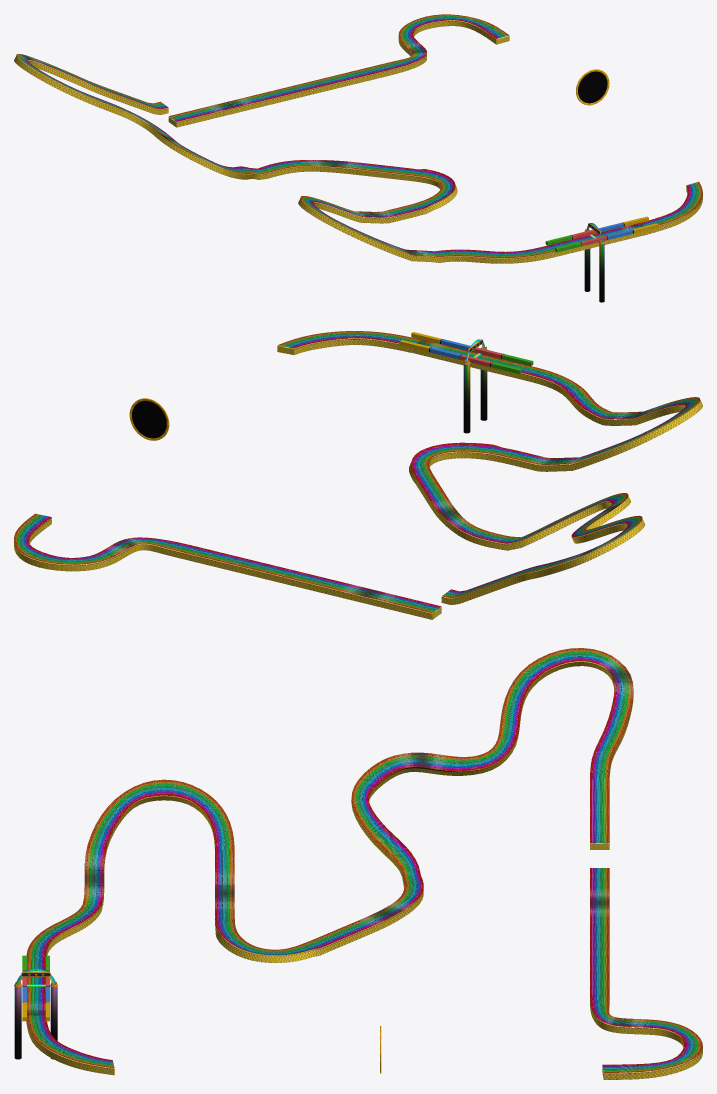
File: Project Name.obj
The picture shows the model from 3 angles, top to bottom: view 1: azimuth 30°, elevation 25°; view 2: azimuth 150°, elevation 25°; view 3: azimuth 270°, elevation 25°; orthographic projection. The views are drawn at different scales.
Visible parts, largest first — view 1: 003_Merged_Objects, 002_Merged_Objects_1, 006_Body_LOD0, 005_Buffer_Object, 001_Box_-_baked, 000_Box_-_baked_1; view 2: 003_Merged_Objects, 002_Merged_Objects_1, 006_Body_LOD0, 005_Buffer_Object, 000_Box_-_baked_1, 001_Box_-_baked; view 3: 003_Merged_Objects, 002_Merged_Objects_1, 005_Buffer_Object.
Part boxes in pixels (x1,y1,x2,y2): 003_Merged_Objects: (16,14,702,257); 002_Merged_Objects_1: (14,20,702,263); 006_Body_LOD0: (576,69,609,105); 005_Buffer_Object: (584,223,604,302); 001_Box_-_baked: (555,223,658,252); 000_Box_-_baked_1: (545,216,648,245); 003_Merged_Objects: (14,331,699,613); 002_Merged_Objects_1: (14,338,702,619); 006_Body_LOD0: (129,398,169,440); 005_Buffer_Object: (463,339,487,433); 000_Box_-_baked_1: (400,340,521,374); 001_Box_-_baked: (411,332,533,366); 003_Merged_Objects: (26,648,702,1072); 002_Merged_Objects_1: (26,661,702,1079); 005_Buffer_Object: (14,969,57,1059).
Bounding box in the file's own units: 133 × 39.82 × 126.
7 materials, 6 textured.
